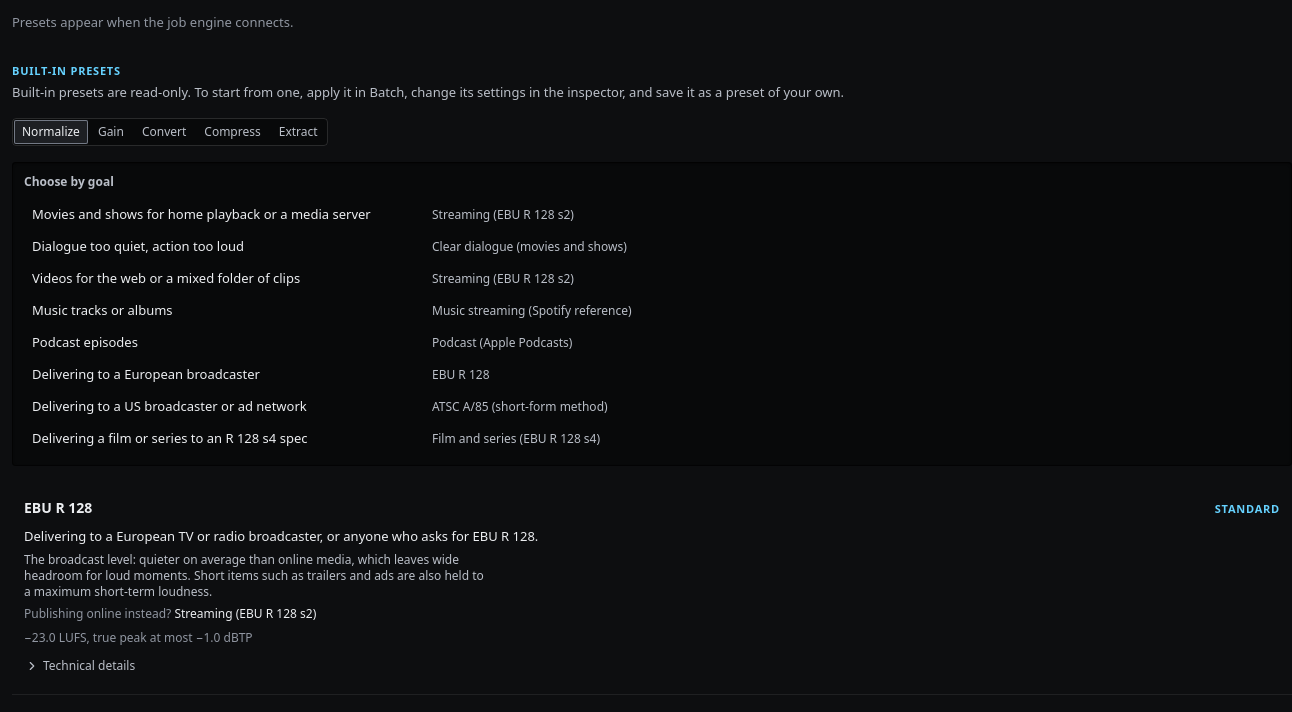
PresetSettings, built-in presets › brings the preset of a chosen goal into view and marks it, per operation
The image size is (1292, 712).
Click the button "Dialogue too quiet". click: click(138, 246)
box: left=24, top=230, right=1280, bottom=262
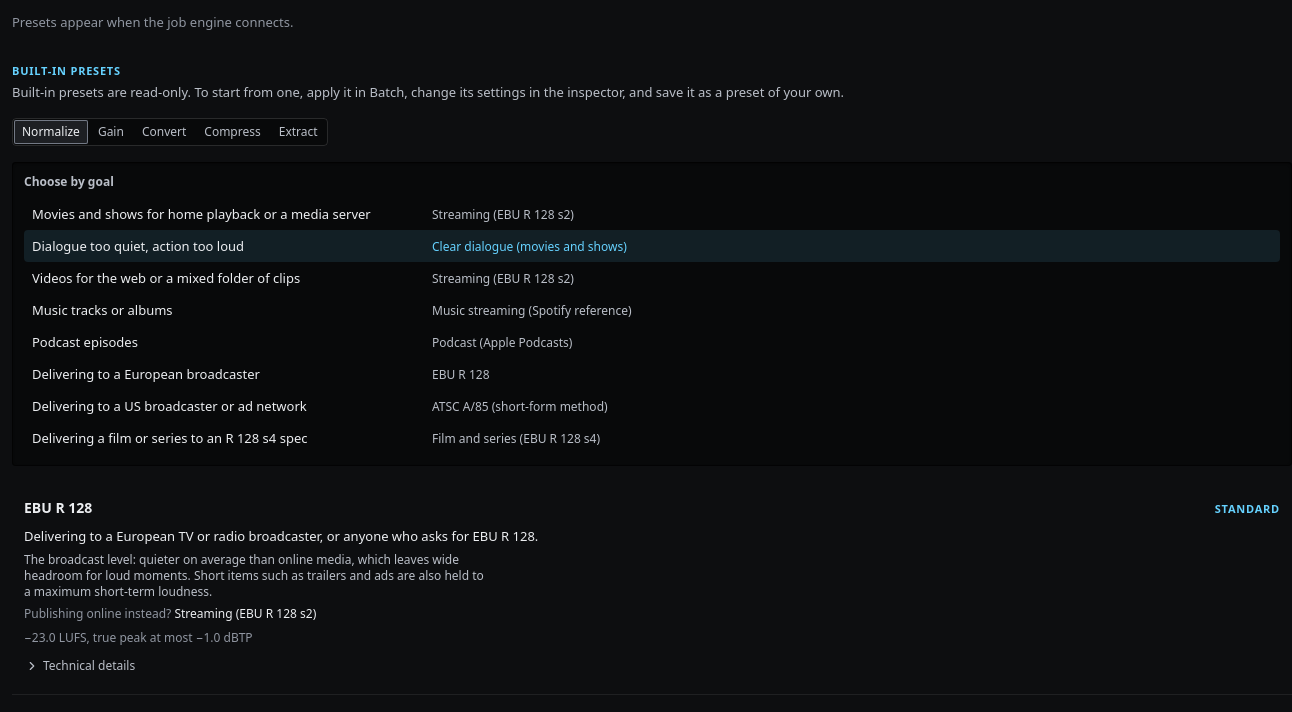
Click the radio button labelled "Compress". click: click(232, 132)
box: left=196, top=120, right=269, bottom=144
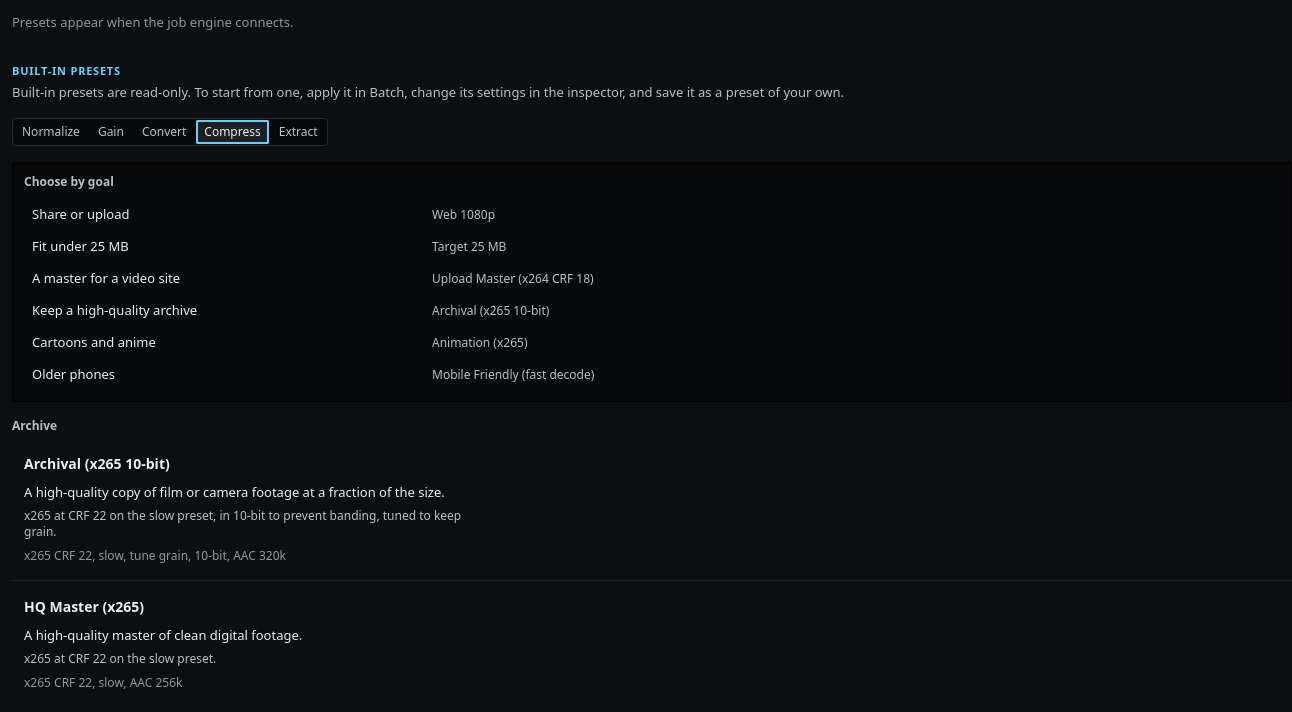
Expected: the list named "Compress goals" is shown, left=24, top=198, right=1280, bottom=390
